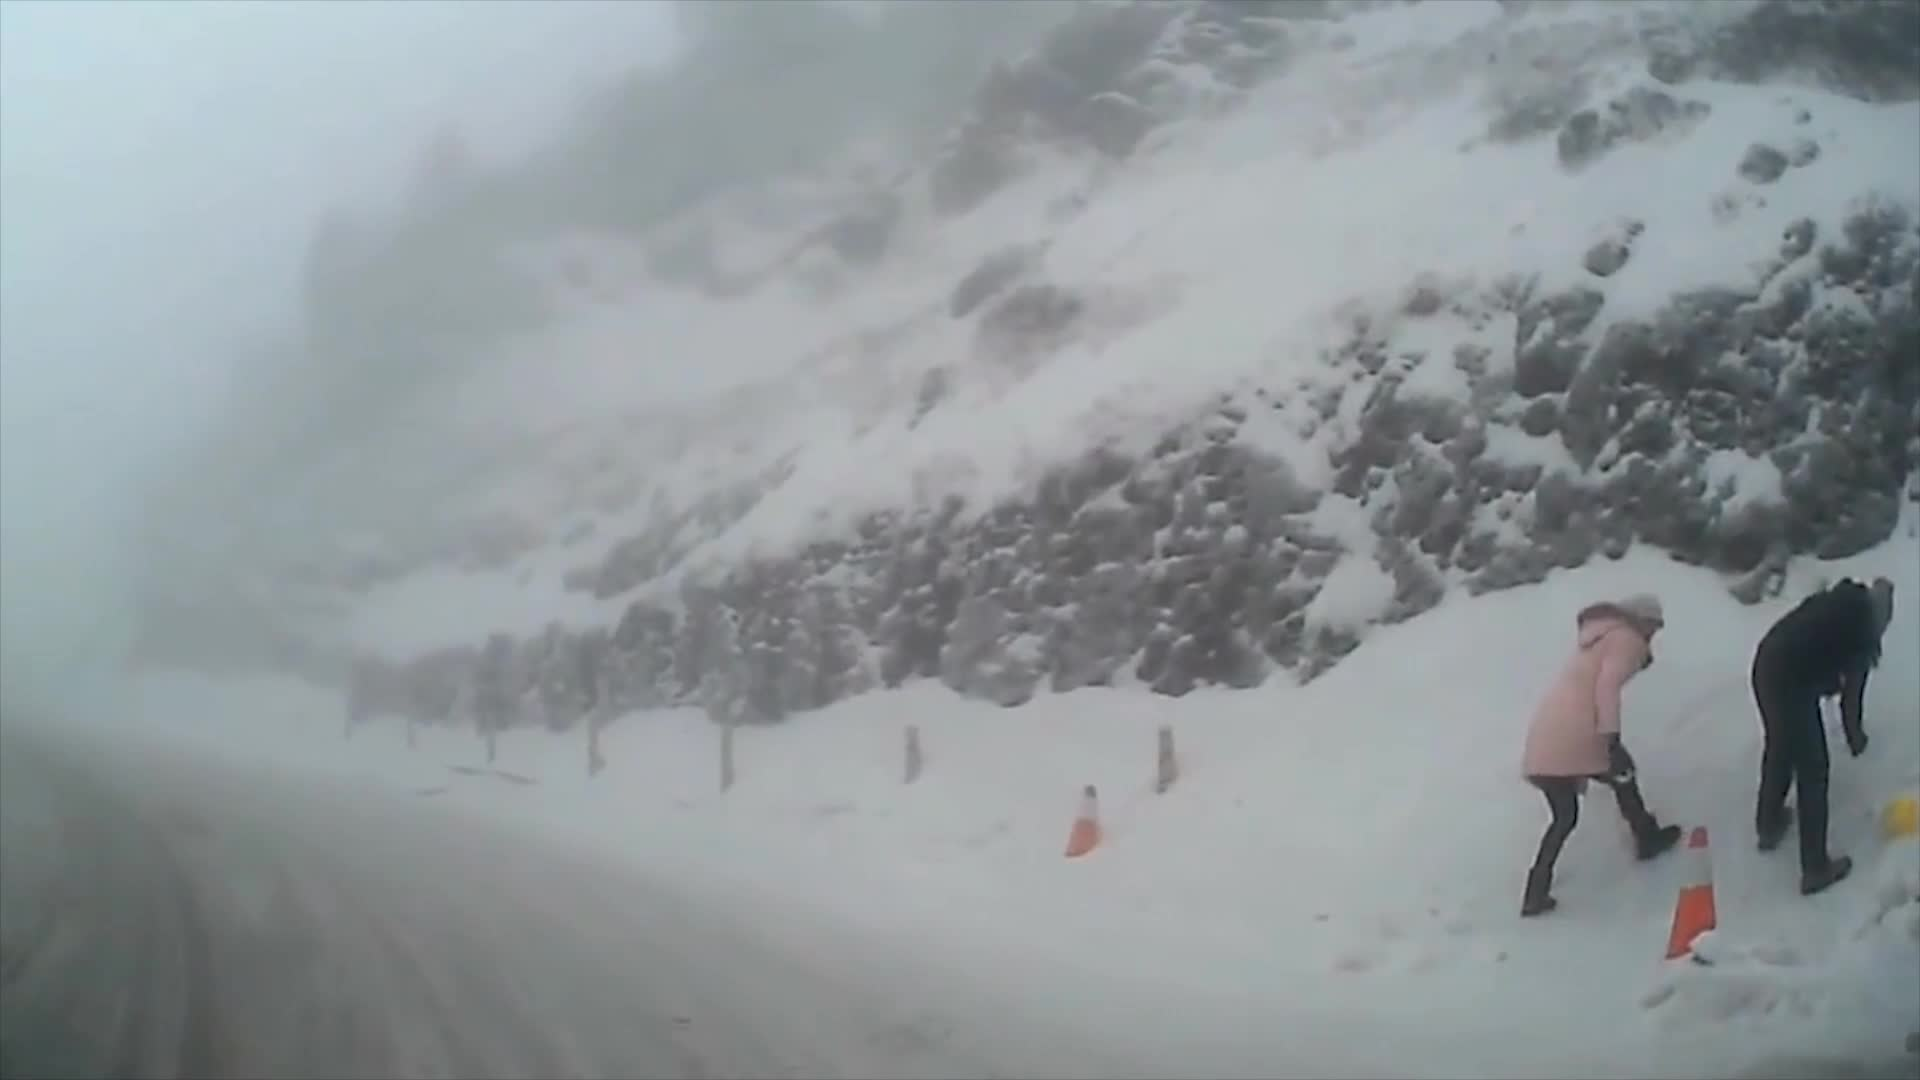pedestrian: (1522, 598, 1680, 919), (1753, 575, 1898, 898)
